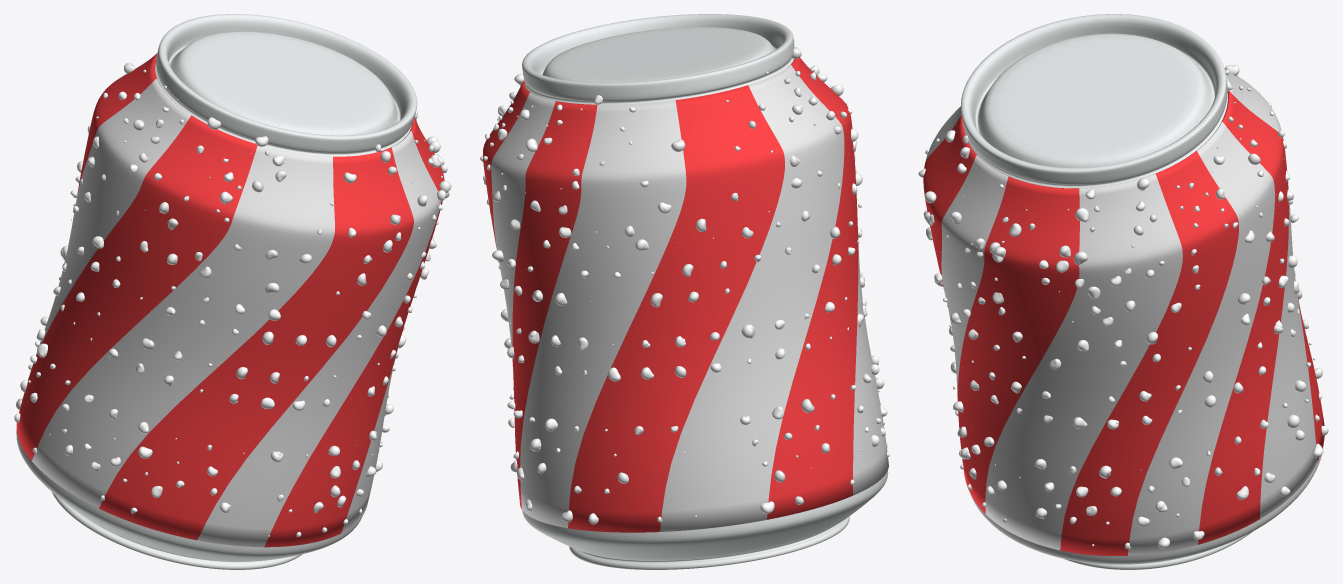
File: soft-drink-3d-animated-icon-895427367894.glb
The picture shows the model from 3 angles, left to right: view 1: azimuth 30°, elevation 25°; view 2: azimuth 150°, elevation 25°; view 3: azimuth 270°, elevation 25°; orthographic projection. The views are drawn at different scales.
Parts seen in each view (by area): view 1: Cylinder.001, Cylinder, Sphere.500; view 2: Cylinder.001, Cylinder, Sphere.500; view 3: Cylinder.001, Cylinder, Sphere.500.
Boxes of the visible parts, box(x1,y1,x2,y2) form: Cylinder.001: box(16, 53, 444, 547); Cylinder: box(16, 14, 417, 569); Sphere.500: box(14, 62, 451, 537); Cylinder.001: box(482, 57, 888, 532); Cylinder: box(522, 14, 888, 569); Sphere.500: box(480, 39, 889, 524); Cylinder.001: box(923, 68, 1324, 555); Cylinder: box(961, 14, 1323, 569); Sphere.500: box(918, 65, 1328, 549).
Bounding box in the file's own units: 2.51 × 3.16 × 2.4.
